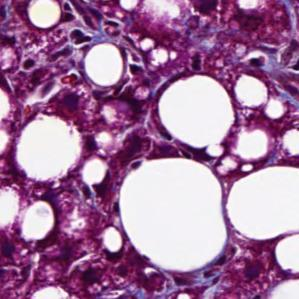inflammation: (64, 24, 96, 48), (64, 24, 95, 48), (244, 49, 272, 72), (242, 50, 271, 69)
